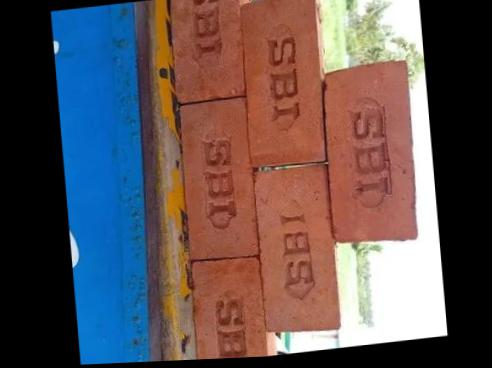brick: (318, 58, 420, 250), (252, 160, 341, 339), (239, 0, 328, 169), (172, 95, 260, 265), (188, 252, 273, 360), (166, 0, 248, 103)
